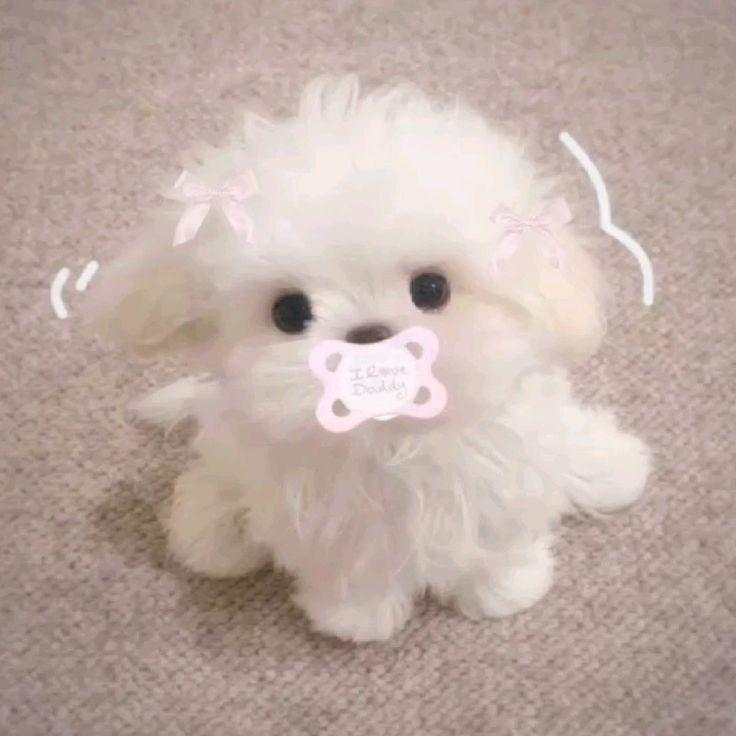non-dog: (80, 69, 652, 645)
